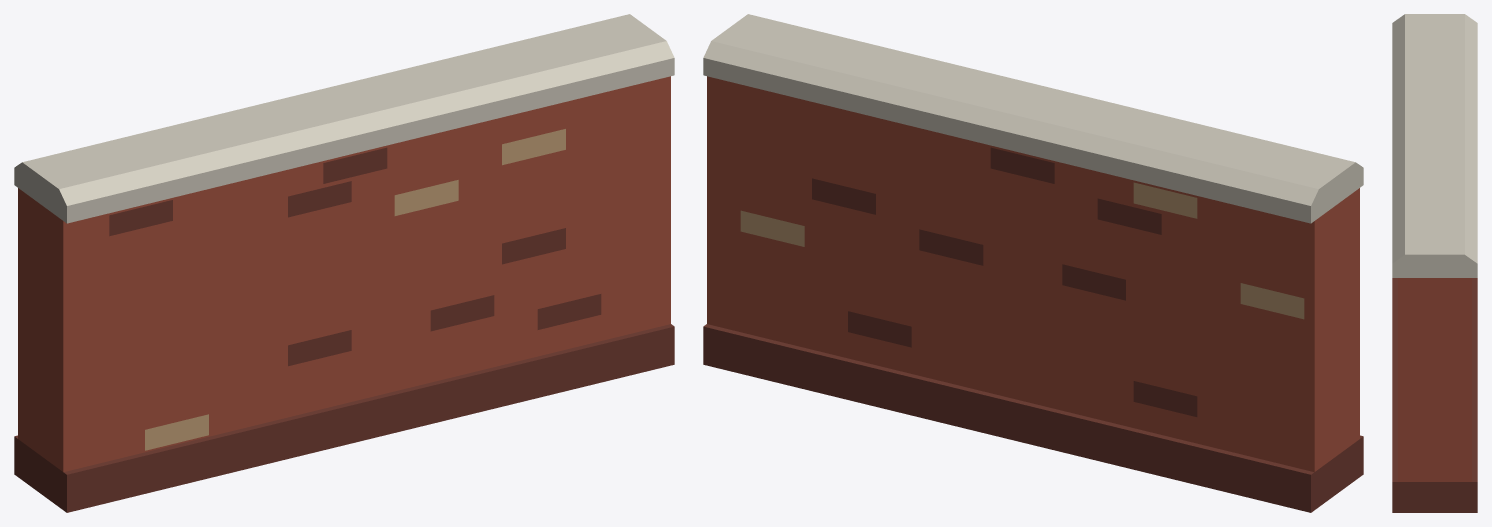
File: wall_brick.glb
3 renders of one model, left to right at view 1: azimuth 30°, elevation 25°; view 2: azimuth 150°, elevation 25°; view 3: azimuth 270°, elevation 25°, orthographic. The views are drawn at different scales.
Parts seen in each view (by area): view 1: wall_brick__mesh; view 2: wall_brick__mesh; view 3: wall_brick__mesh.
Part boxes in pixels (bbox=[...]): wall_brick__mesh: bbox=[14, 14, 674, 512]; wall_brick__mesh: bbox=[703, 14, 1363, 512]; wall_brick__mesh: bbox=[1392, 14, 1477, 512].
Bounding box in the file's own units: 2 × 1 × 0.3.
1 material, 1 textured.
